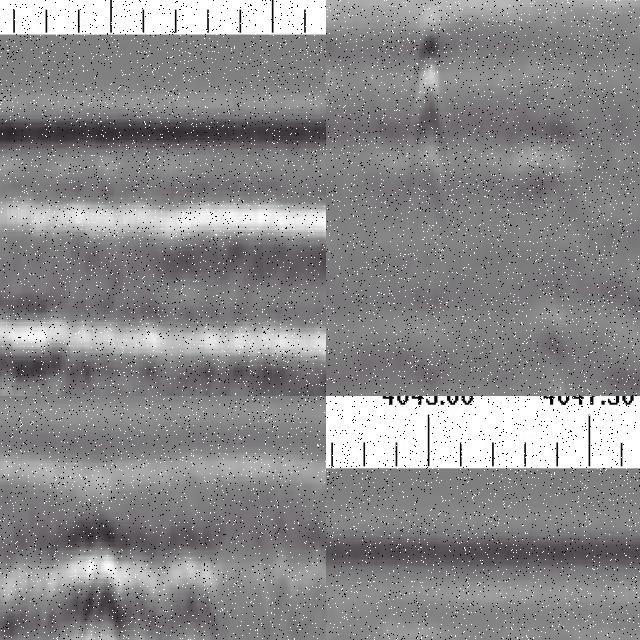crack: (396, 1, 454, 221)
loose: (1, 513, 217, 640)
